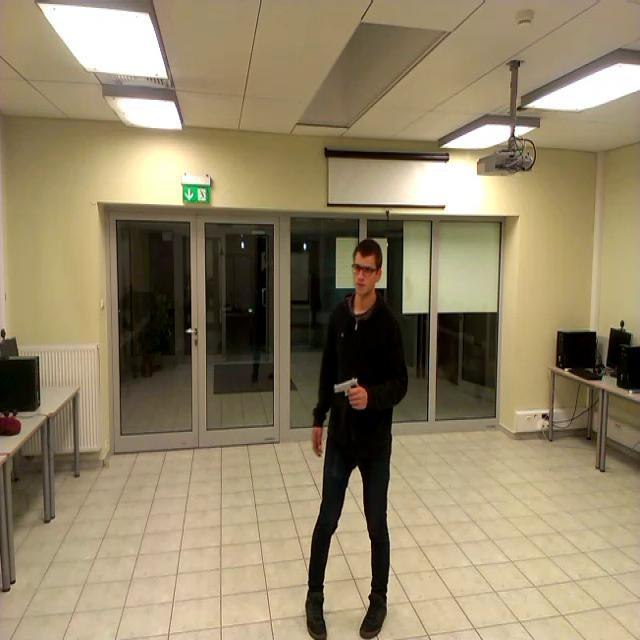Gun: (334, 376, 360, 402)
